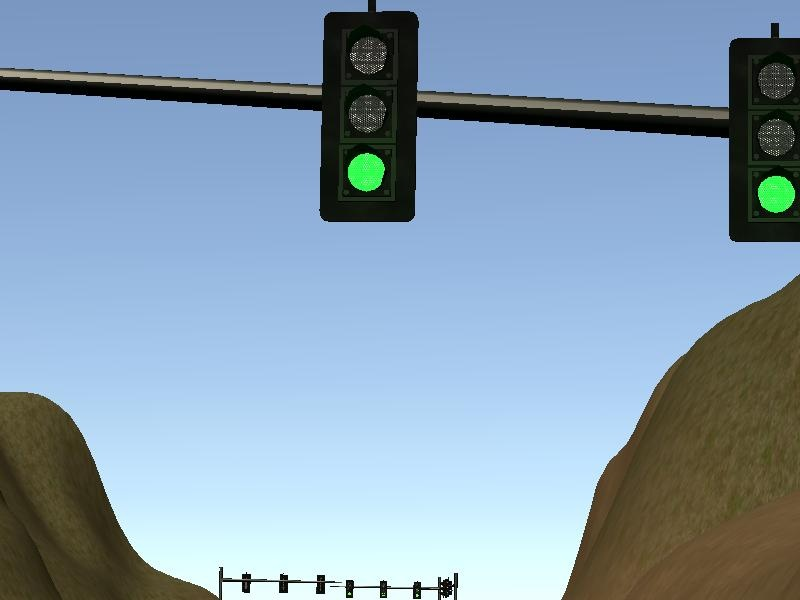traffic_light_green: (1, 1, 800, 242)
